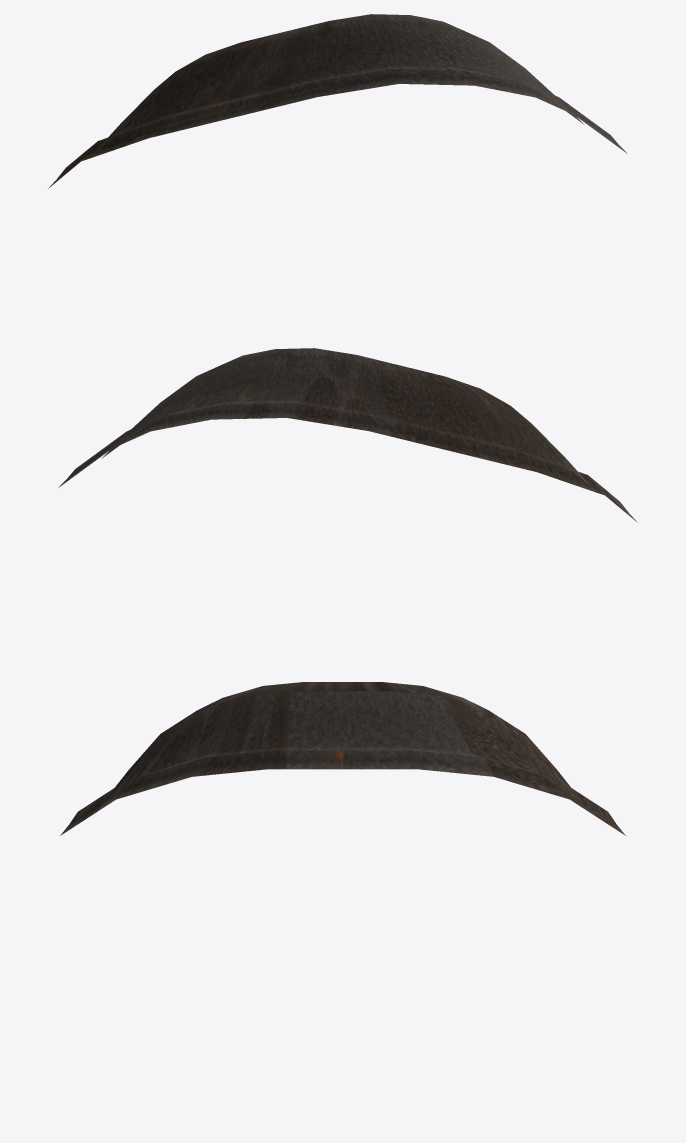
The picture shows the model from 3 angles, top to bottom: view 1: azimuth 30°, elevation 25°; view 2: azimuth 150°, elevation 25°; view 3: azimuth 270°, elevation 25°; orthographic projection. The views are drawn at different scales.
Visible parts, largest first — view 1: turtle_rattle:pCube1; view 2: turtle_rattle:pCube1; view 3: turtle_rattle:pCube1.
Boxes of the visible parts, x1=… form: turtle_rattle:pCube1: x1=48, y1=14, x2=627, y2=188; turtle_rattle:pCube1: x1=58, y1=348, x2=637, y2=522; turtle_rattle:pCube1: x1=60, y1=682, x2=625, y2=835.
Bounding box in the file's own units: 2.01 × 0.475 × 1.48.
1 material, 1 textured.
